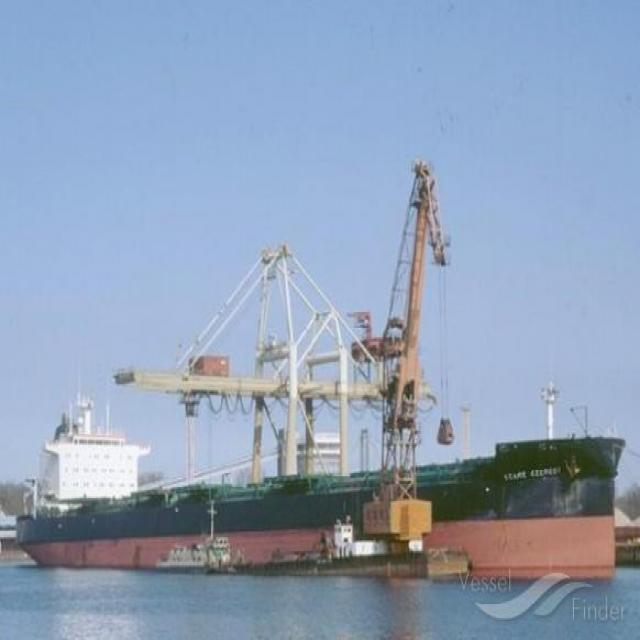OCR: (501, 461, 566, 494)
